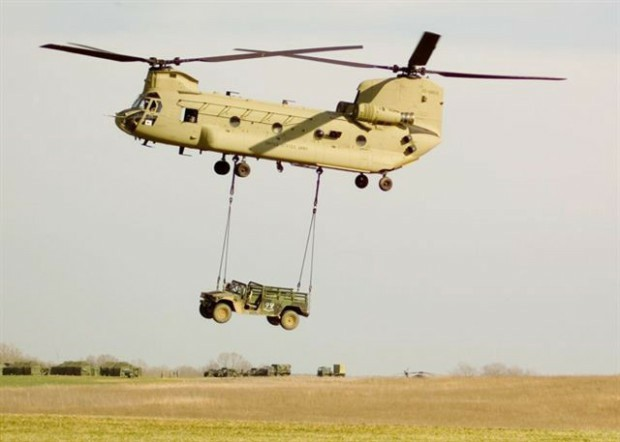chinook: (44, 33, 585, 190)
